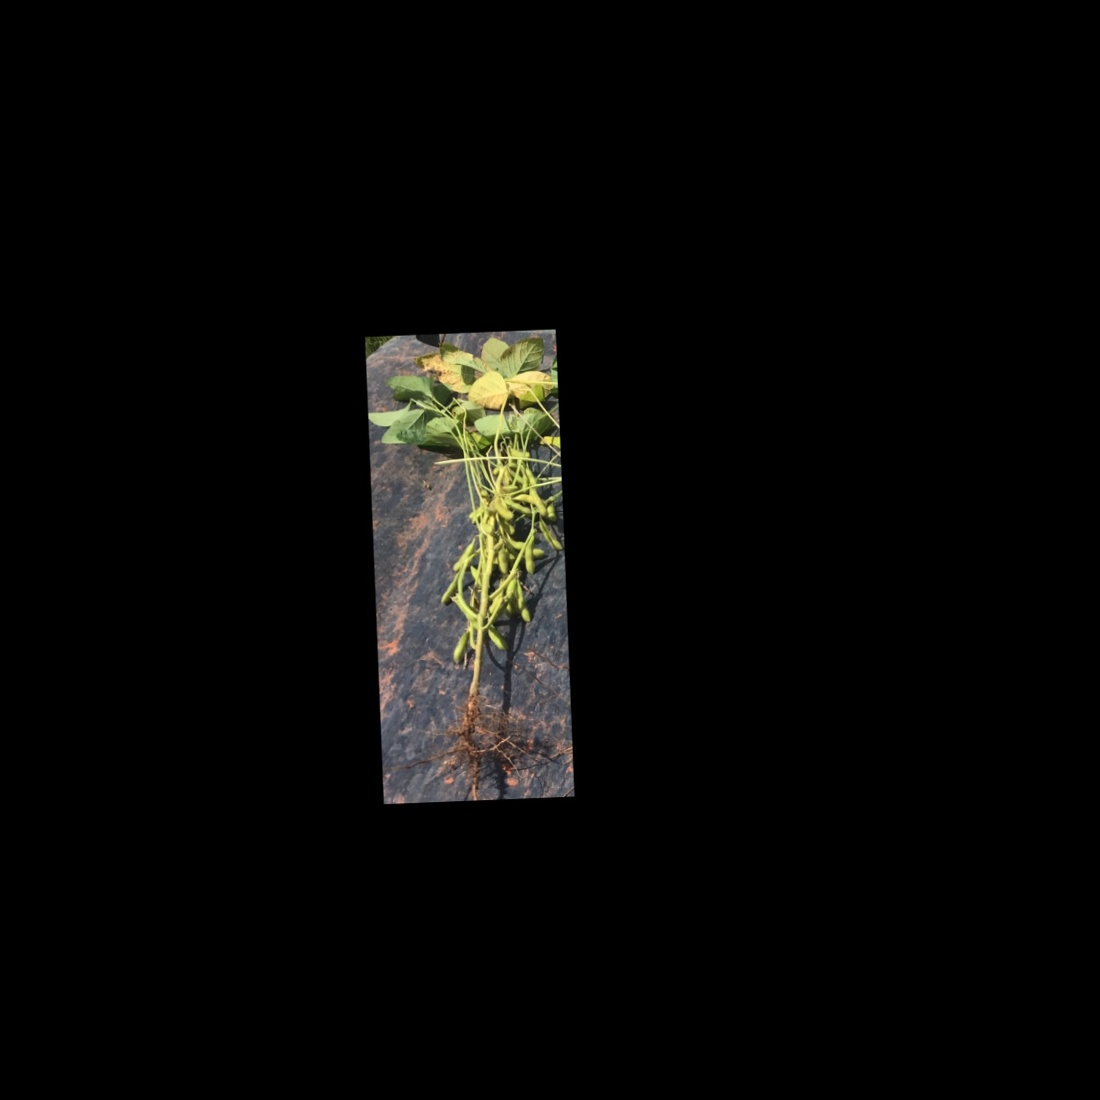pod: (534, 517, 564, 554), (450, 626, 473, 668), (450, 538, 476, 572), (436, 571, 460, 606), (521, 535, 540, 577), (531, 484, 550, 517)
soy: (372, 334, 573, 787)
